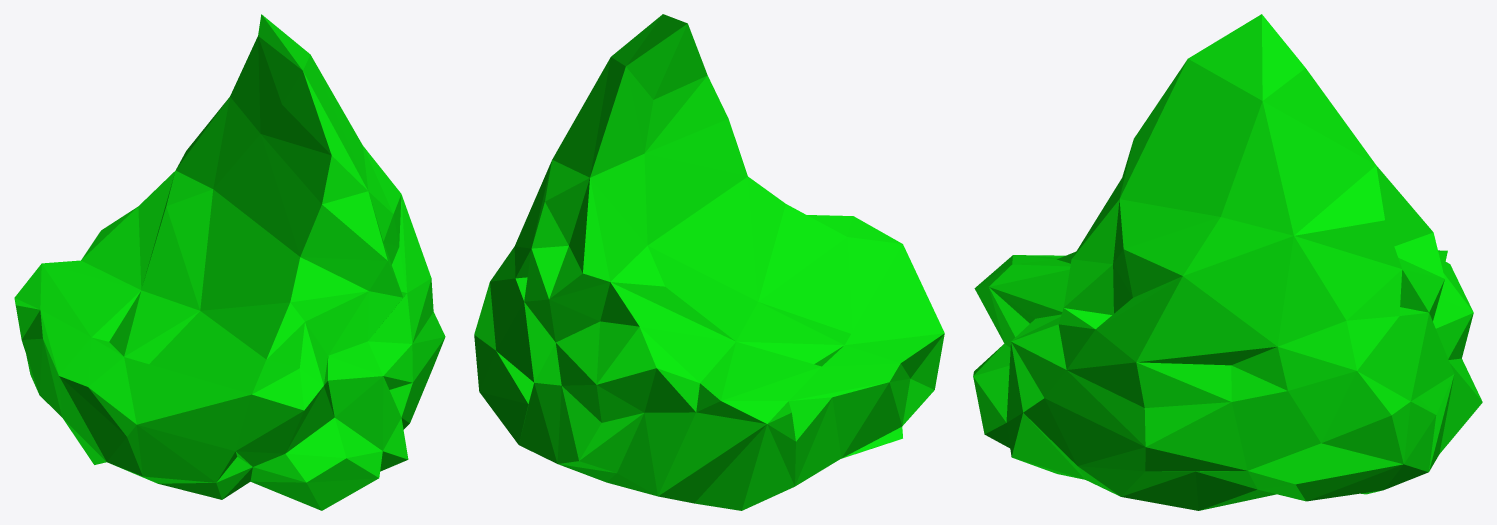
The model's file is meteor_green_flow_shard_01.glb.
3 renders of one model, left to right at view 1: azimuth 30°, elevation 25°; view 2: azimuth 150°, elevation 25°; view 3: azimuth 270°, elevation 25°, orthographic. The views are drawn at different scales.
Parts seen in each view (by area): view 1: Mesh1.0; view 2: Mesh1.0; view 3: Mesh1.0.
Boxes of the visible parts, x1,y1,x2,y2 form: Mesh1.0: (14, 14, 445, 510); Mesh1.0: (474, 14, 944, 510); Mesh1.0: (973, 14, 1482, 510).
Size of the model in its own units: 2.42 by 2.65 by 2.62.
